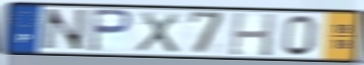0: (280, 13, 320, 58)
7: (187, 9, 226, 56)
H: (227, 11, 278, 58)
N: (38, 8, 90, 52)
P: (87, 7, 135, 54)
X: (134, 10, 181, 55)
